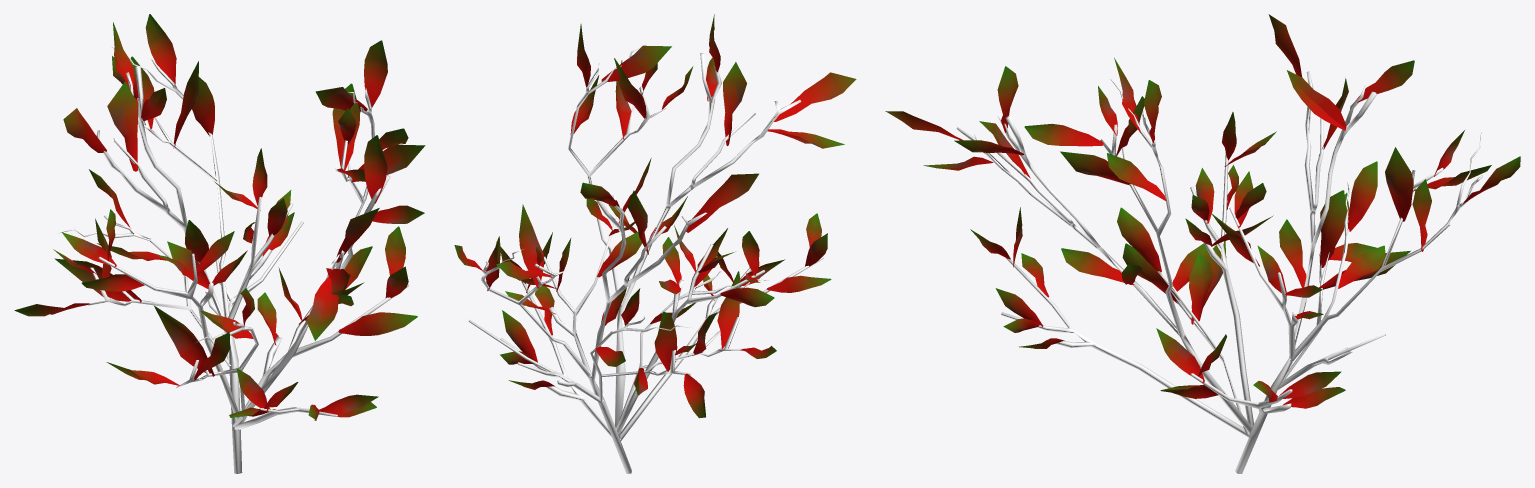
File: Autumn bush fall.fbx
3 renders of one model, left to right at view 1: azimuth 30°, elevation 25°; view 2: azimuth 150°, elevation 25°; view 3: azimuth 270°, elevation 25°, orthographic. The views are drawn at different scales.
Parts seen in each view (by area): view 1: Sc Autumn bush fall 02; view 2: Sc Autumn bush fall 02; view 3: Sc Autumn bush fall 02.
Boxes of the visible parts, x1=… form: Sc Autumn bush fall 02: x1=14, y1=14, x2=425, y2=473; Sc Autumn bush fall 02: x1=454, y1=14, x2=856, y2=473; Sc Autumn bush fall 02: x1=885, y1=14, x2=1520, y2=473.
Bounding box in the file's own units: 0.5143 × 0.6908 × 0.9016.
